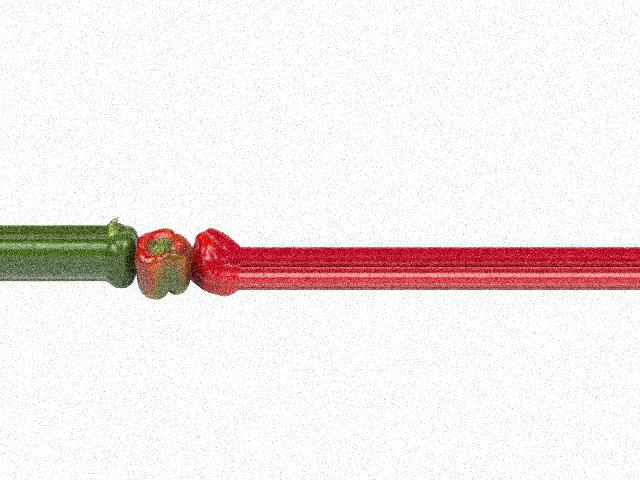bell_pepper: (189, 222, 240, 299)
